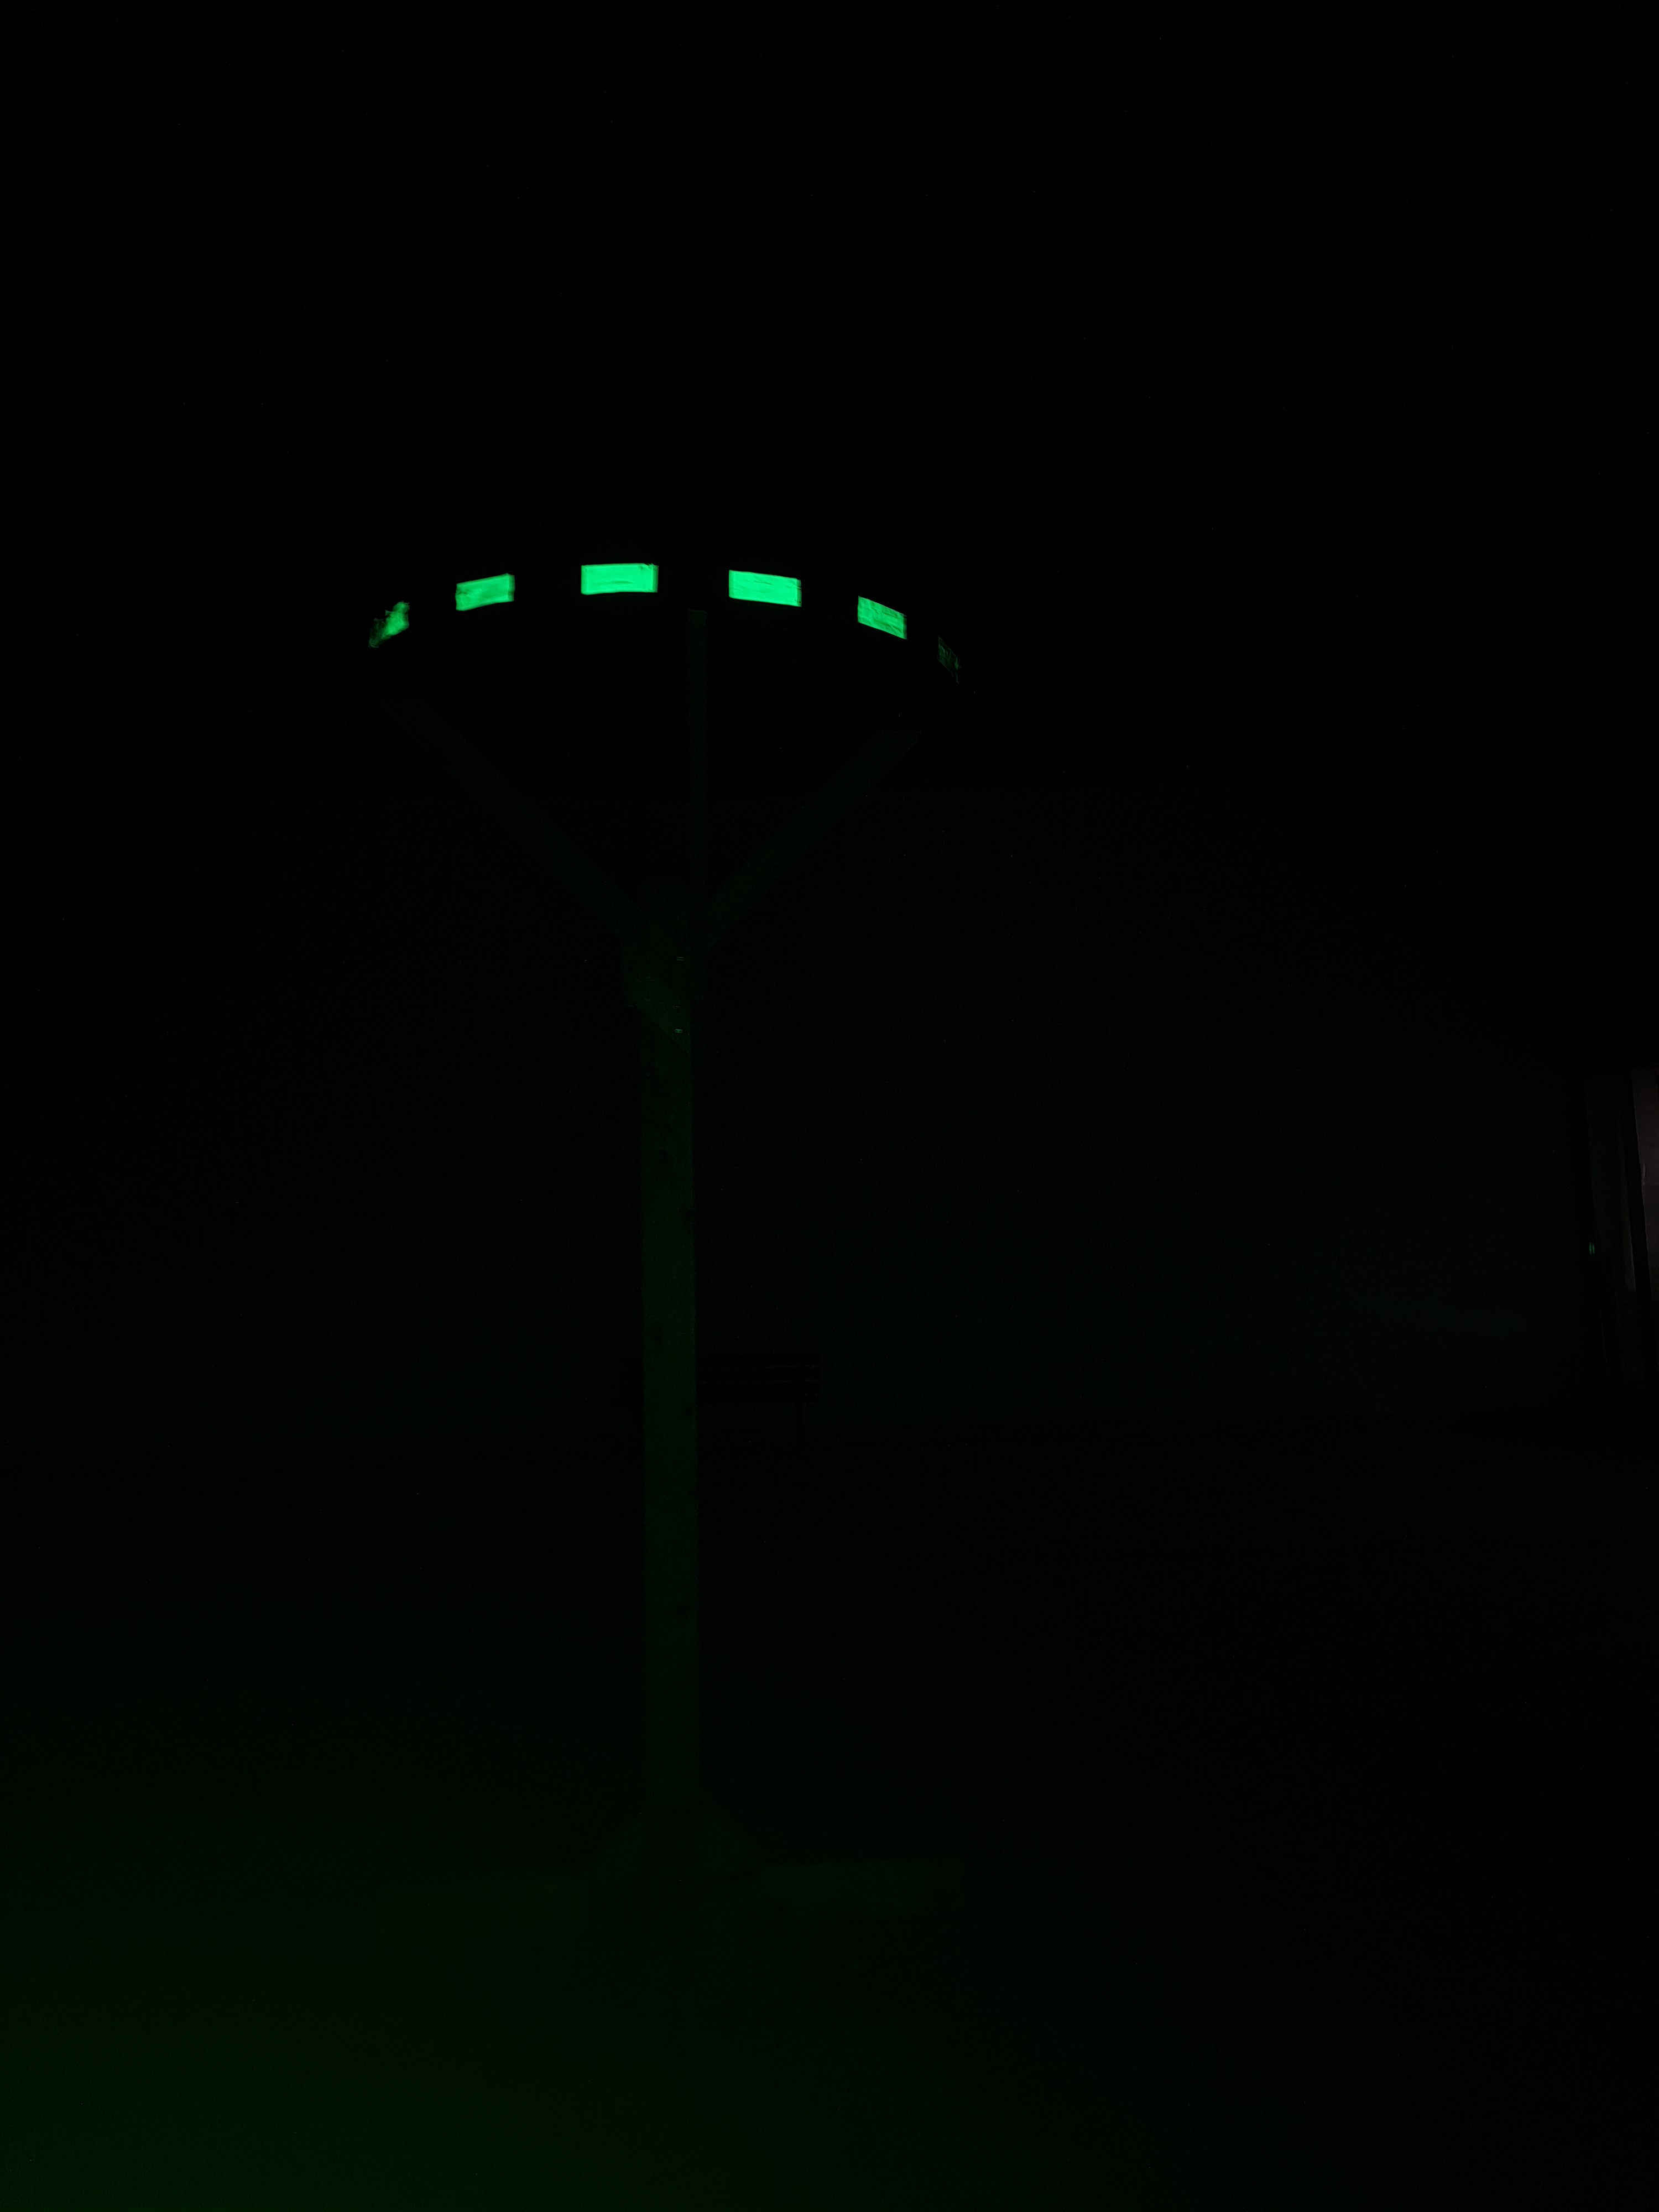hoop: (366, 557, 910, 648)
